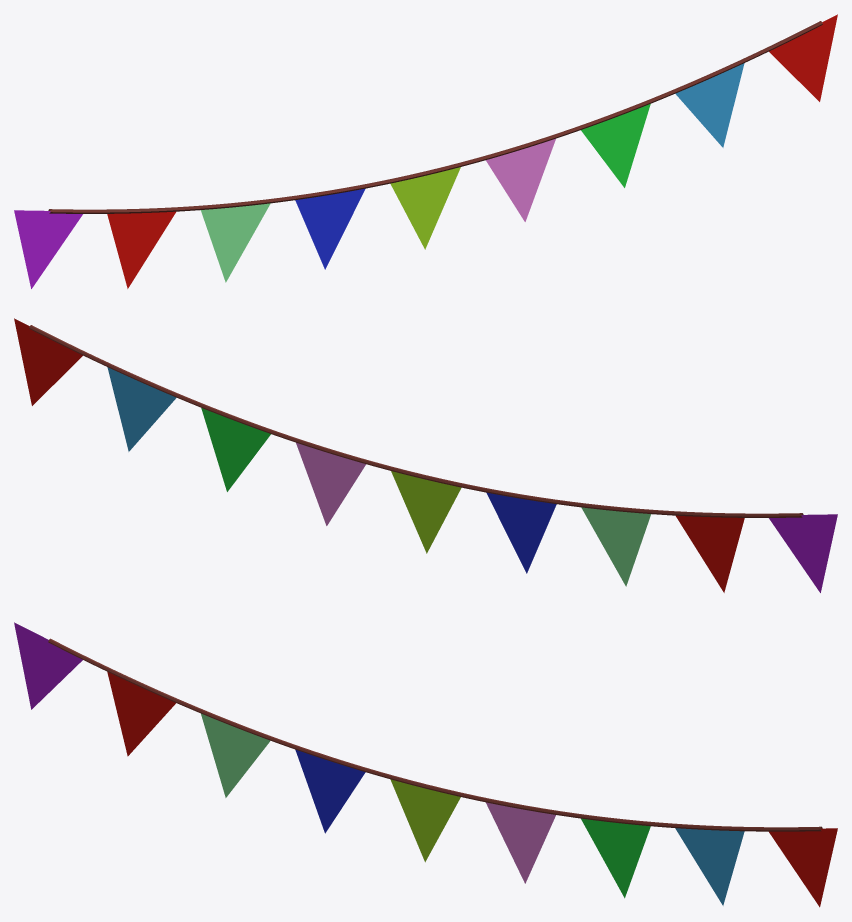
File: AdornoPlaza.fbx
3 renders of one model, top to bottom at view 1: azimuth 30°, elevation 25°; view 2: azimuth 150°, elevation 25°; view 3: azimuth 330°, elevation 25°, orthographic.
Parts seen in each view (by area): view 1: Plane; view 2: Plane; view 3: Plane.
Part boxes in pixels (x1,y1,x2,y2): Plane: (14,14,837,288); Plane: (14,318,837,592); Plane: (14,622,837,907).
Bounding box in the file's own units: 4.27 × 0.02 × 0.6927.
